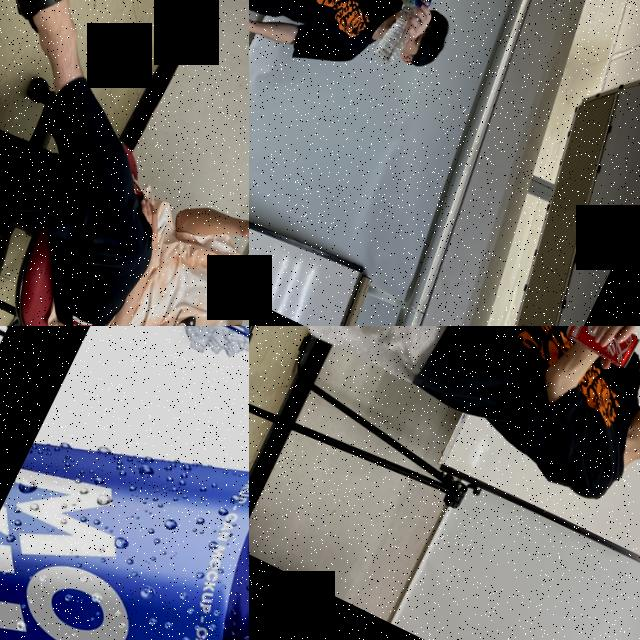bottle: (368, 0, 446, 71)
can: (0, 365, 249, 640), (559, 326, 640, 371)
